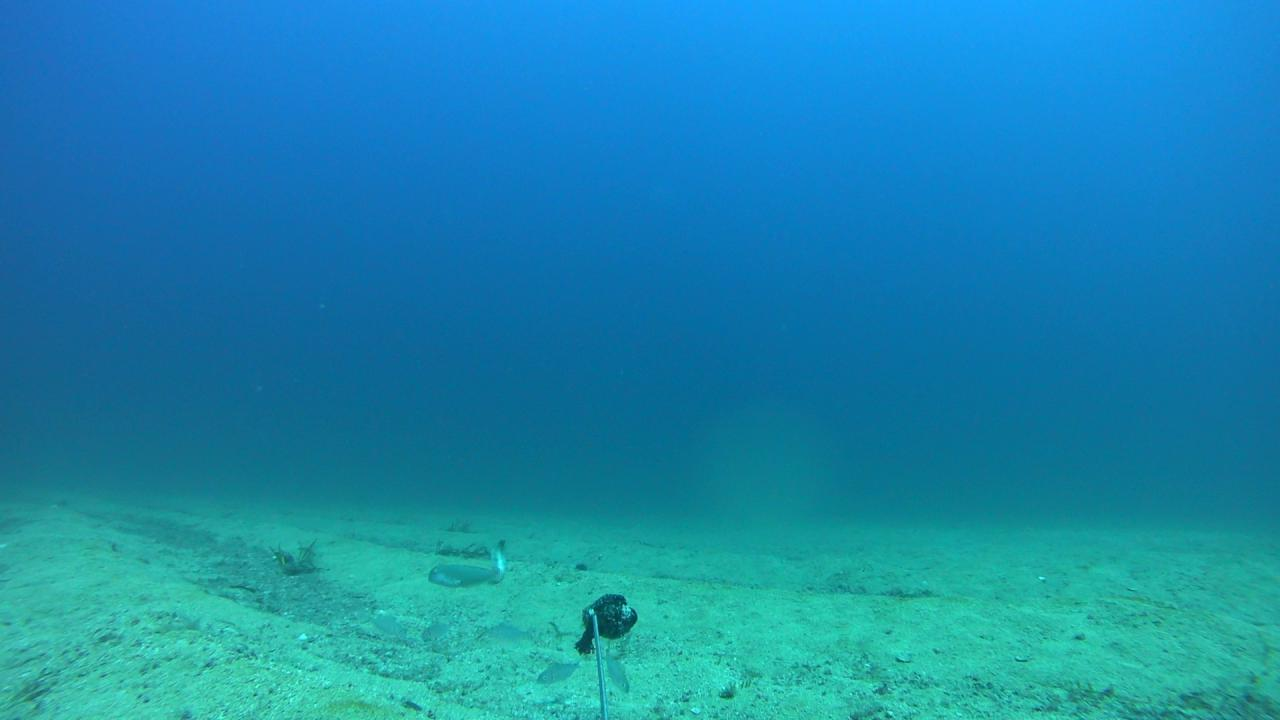pagellus: (535, 653, 583, 685), (603, 643, 629, 691)
